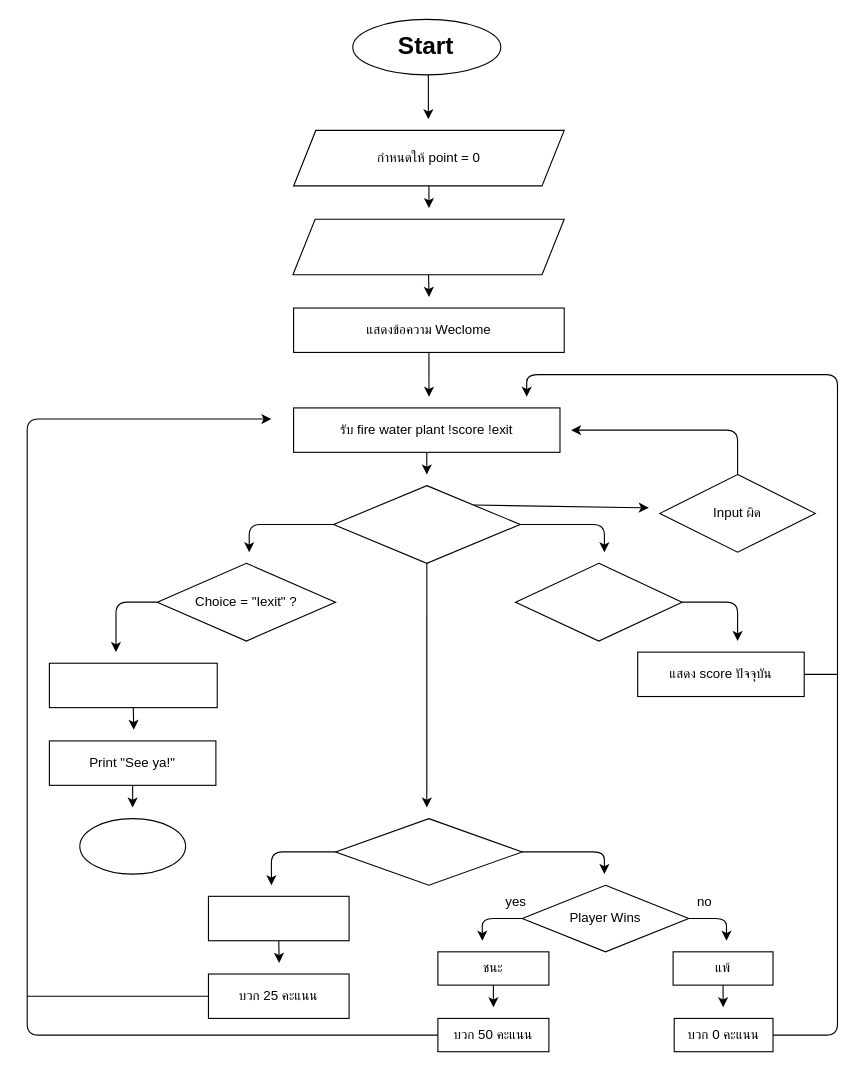
Image size: 866x1071. Some labels were removed from this diagram. The shapes that lost their labels are listed below. From the top down, each one's box as (x1, y1, x2, y2) in pixels, then its label:
(292, 218, 564, 275): รับชื่อ Player
(332, 485, 520, 563): Choice Input
(514, 562, 682, 641): Choice = "Iscore" ?
(48, 662, 217, 708): แสดง total score
(79, 818, 186, 874): End
(334, 818, 522, 885): Player Choice = Computer Choice
(207, 895, 349, 941): เสมอ
